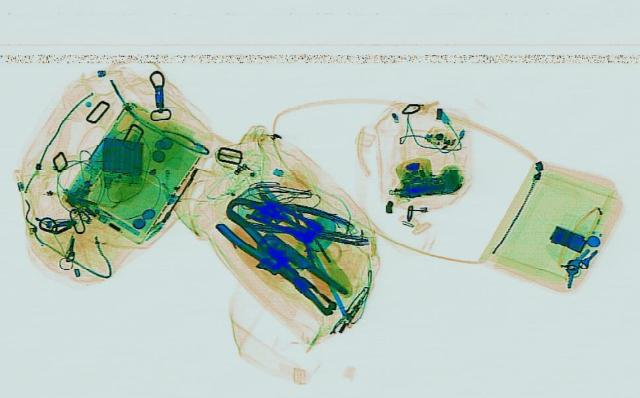Pliers: (210, 211, 322, 294)
